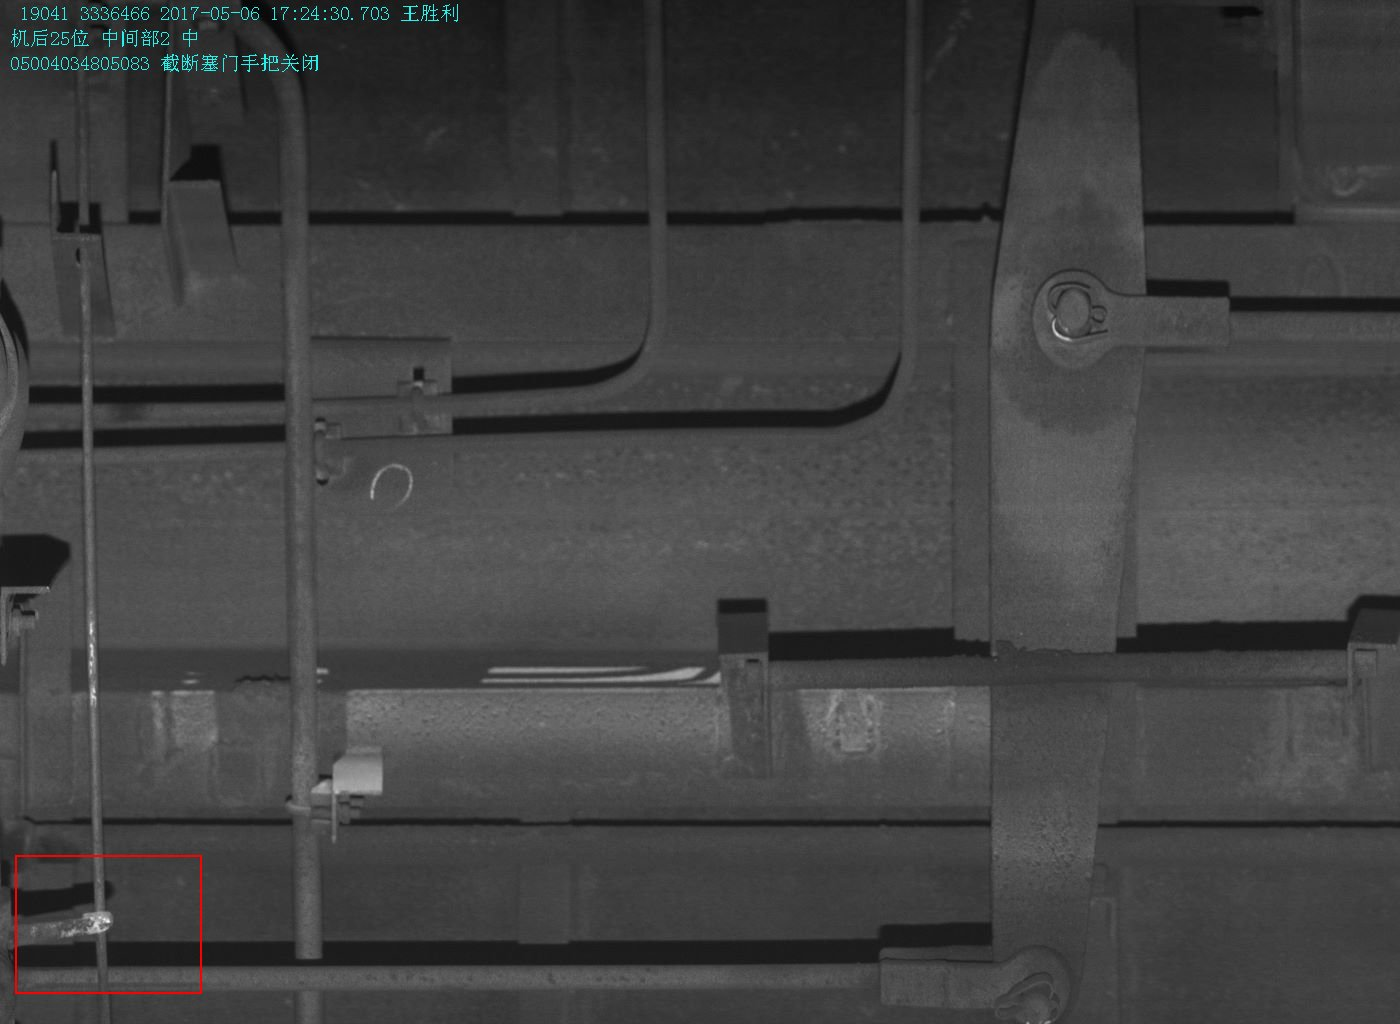truncated plug door handle: (1, 886, 115, 965)
